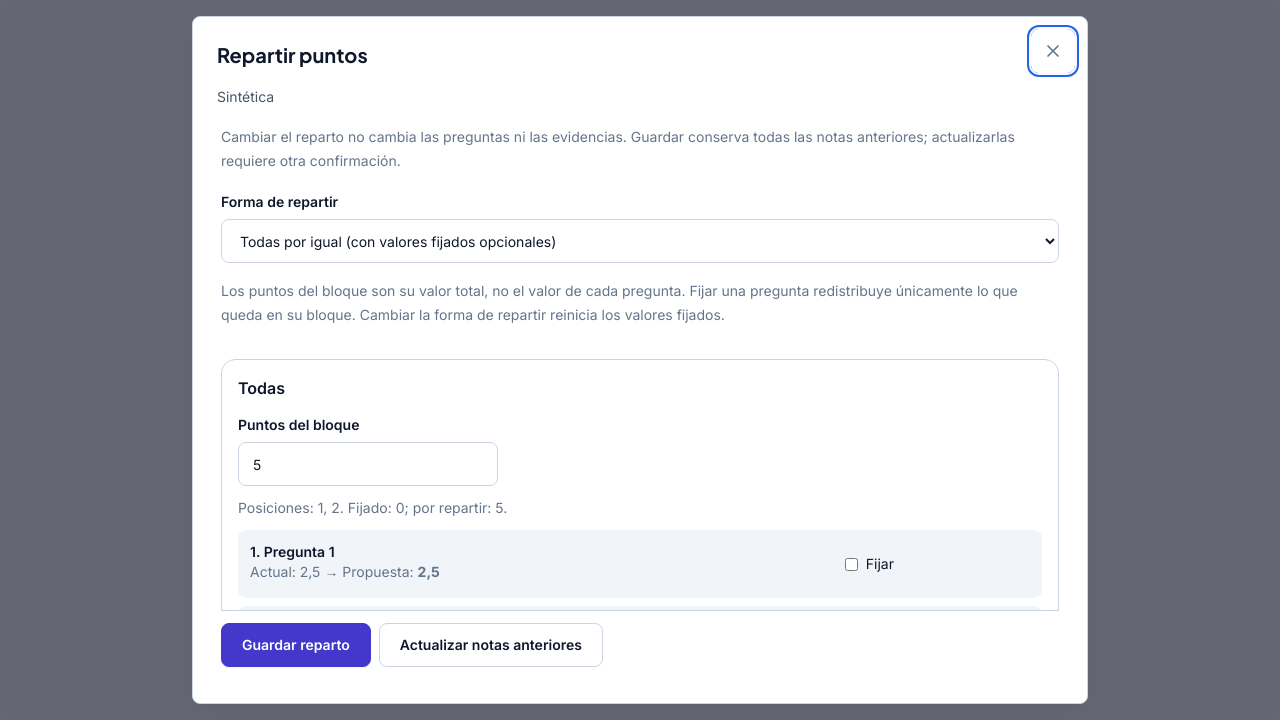
Test case: 137 conservar borrador tras conflicto no inicia actualización de notas
Expected: the dropdown labelled "Forma de repartir" is shown, top-left (221, 219), bottom-right (1059, 263)
Click the checkbox named "Fijar posición 1" at {"x": 851, "y": 564}, box top-left (845, 558), bottom-right (858, 570)
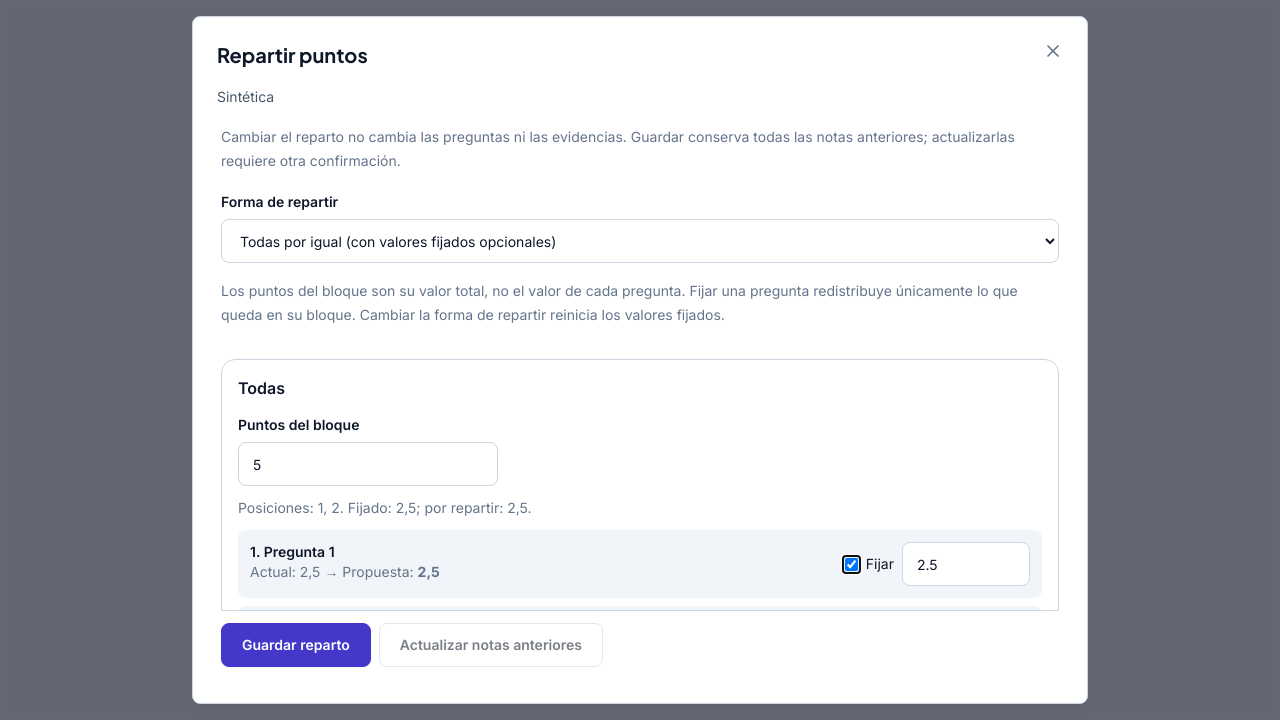
Replace the text in the field named "Valor fijado posición 1" with "3" at {"x": 966, "y": 564}, box top-left (902, 542), bottom-right (1030, 586)
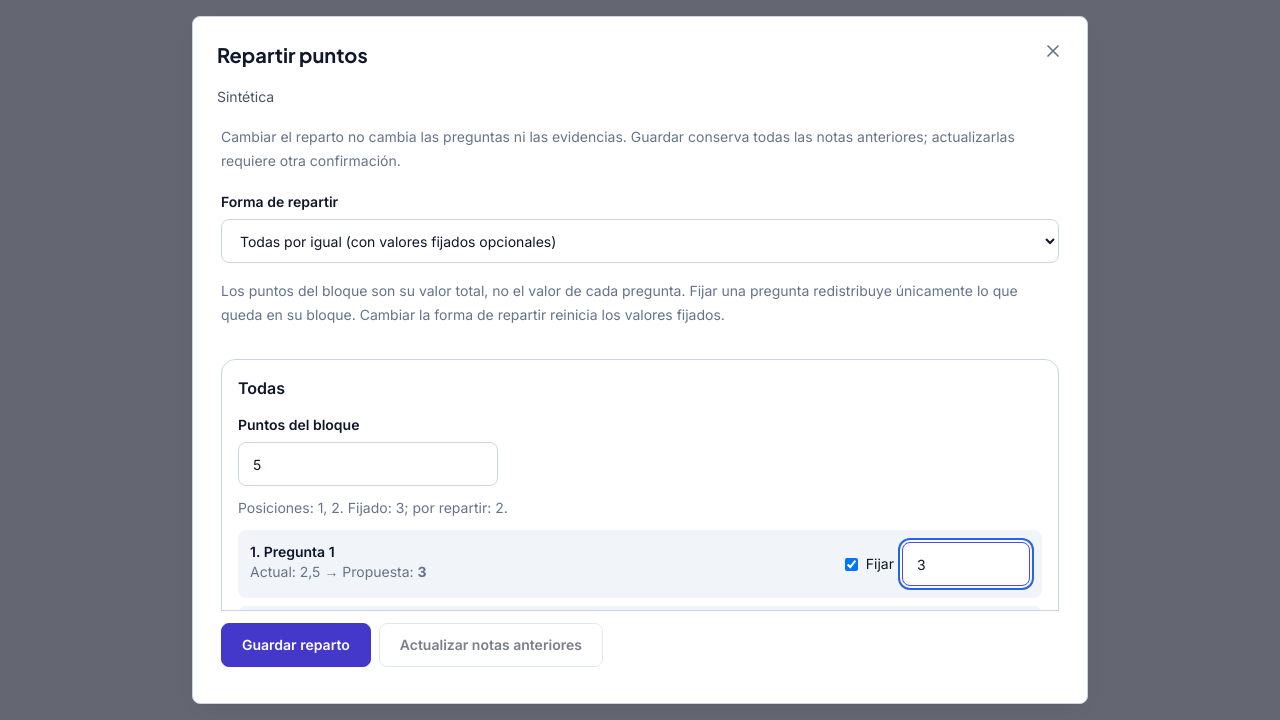
Click the button "Guardar reparto" at {"x": 296, "y": 645}, box top-left (221, 623), bottom-right (371, 667)
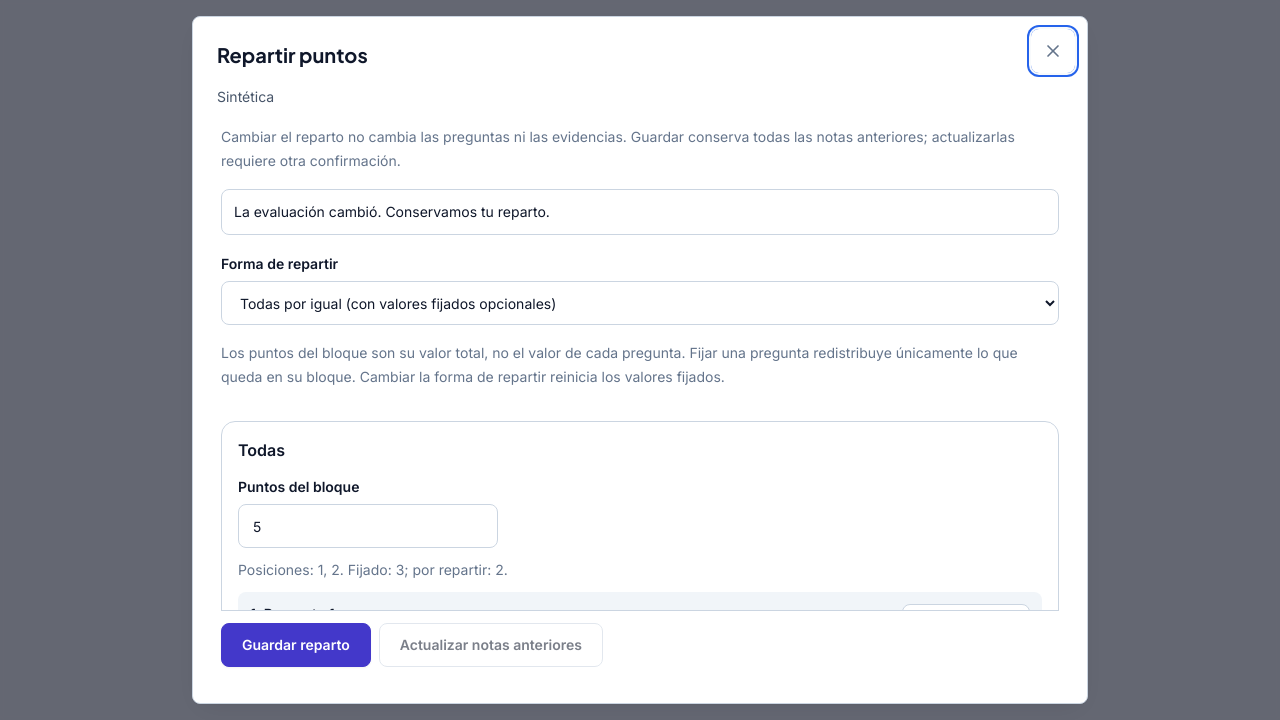
Now the message shows "La evaluación cambió", box top-left (234, 203), bottom-right (550, 220)
